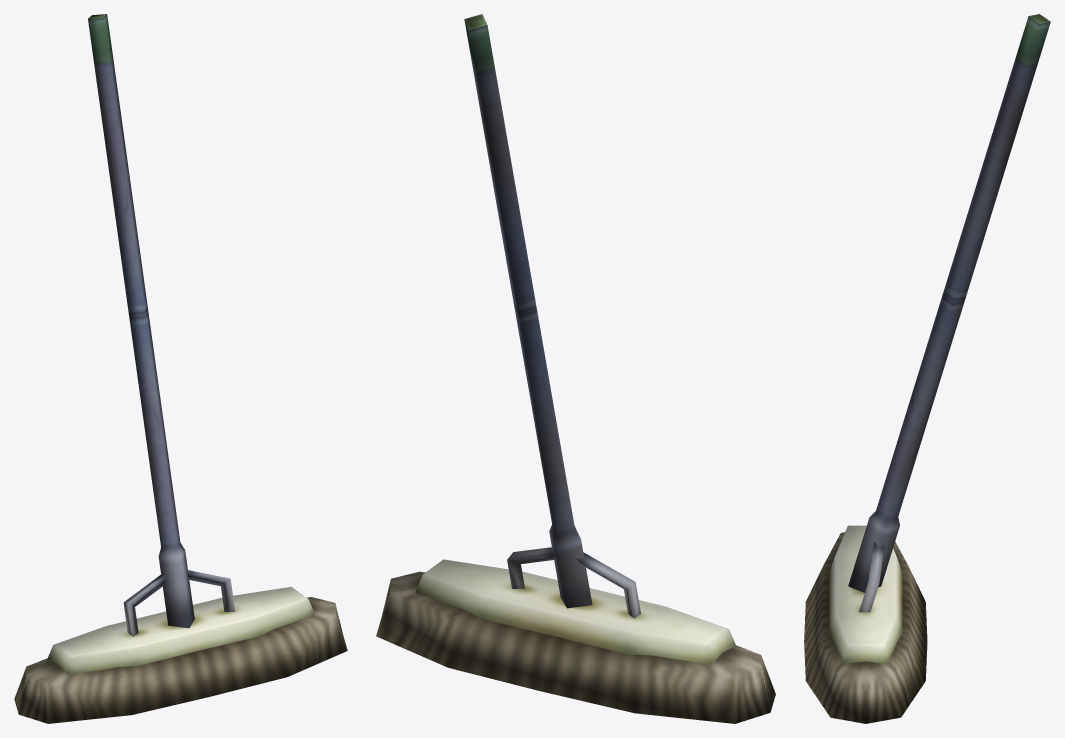
The model's file is a_SWIclean01_01.glb.
3 renders of one model, left to right at view 1: azimuth 30°, elevation 25°; view 2: azimuth 150°, elevation 25°; view 3: azimuth 270°, elevation 25°, orthographic. The views are drawn at different scales.
Visible parts, largest first — view 1: a_SWIclean01_01; view 2: a_SWIclean01_01; view 3: a_SWIclean01_01.
Part boxes in pixels (box(x1,y1,x2,y2)): a_SWIclean01_01: box(14, 14, 347, 723); a_SWIclean01_01: box(376, 14, 775, 723); a_SWIclean01_01: box(804, 14, 1050, 723).
Size of the model in its own units: 0.9018 by 1.59 by 0.5701.
1 material, 1 textured.
